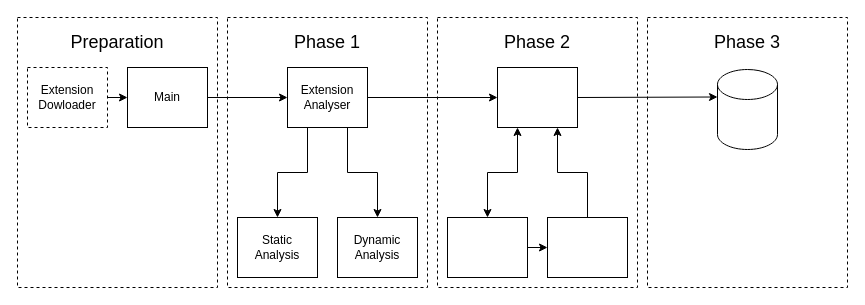
This 865x305 diagram has some shape labels left out. Each missing label, with the centre of its shape:
"DB" belongs at pixel 747 109.
"DNS" belongs at pixel 487 247.
"Domain" belongs at pixel 537 97.
"RDAP" belongs at pixel 587 247.
